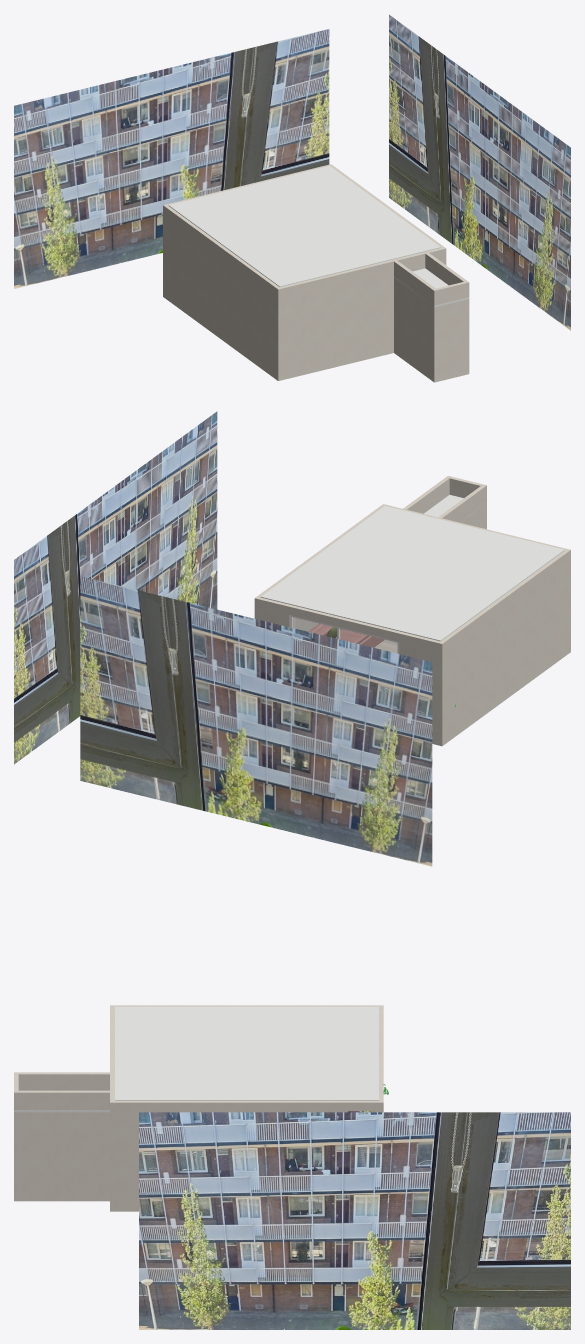
The model's file is room.glb.
3 views of the same model, one above another, from view 1: azimuth 30°, elevation 25°; view 2: azimuth 150°, elevation 25°; view 3: azimuth 270°, elevation 25° (orthographic). The views are drawn at different scales.
Visible parts, largest first — view 1: Backdrop_North, Backdrop_East, Ceiling, Wall_S_a, Wall_W, Hall_Wall_L, Hall_End, Hall_Wall_R, Hall_Ceiling; view 2: Backdrop_North, Backdrop_East, Ceiling, Wall_W, Wall_N_a, Wall_N_above, Hall_Wall_L, Wall_N_b, Hall_Wall_R, Wall_E_a, Glass_Pane_Left, Hall_End; view 3: Backdrop_East, Ceiling, Hall_Wall_R, Wall_E_a, Hall_Wall_L, Hall_End, Wall_S_b, Wall_W.
Part boxes in pixels (box(x1,y1,x2,y2)): Backdrop_North: box(14, 29, 329, 288); Backdrop_East: box(389, 14, 570, 330); Ceiling: box(168, 165, 440, 286); Wall_S_a: box(276, 259, 396, 380); Wall_W: box(163, 204, 281, 379); Hall_Wall_L: box(394, 260, 435, 380); Hall_End: box(432, 281, 469, 382); Hall_Wall_R: box(425, 253, 466, 285); Hall_Ceiling: box(394, 268, 469, 307); Backdrop_North: box(80, 576, 432, 866); Backdrop_East: box(14, 411, 217, 764); Ceiling: box(260, 506, 564, 641); Wall_W: box(439, 549, 570, 745); Wall_N_a: box(399, 632, 442, 746); Wall_N_above: box(289, 605, 400, 641); Hall_Wall_L: box(438, 486, 484, 528); Wall_N_b: box(254, 597, 291, 627); Hall_Wall_R: box(403, 477, 449, 513); Wall_E_a: box(273, 504, 386, 631); Glass_Pane_Left: box(340, 629, 397, 652); Hall_End: box(446, 476, 486, 529); Backdrop_East: box(139, 1112, 570, 1329); Ceiling: box(115, 1006, 378, 1100); Hall_Wall_R: box(18, 1090, 109, 1201); Wall_E_a: box(110, 1100, 345, 1211); Hall_Wall_L: box(18, 1072, 109, 1090); Hall_End: box(14, 1072, 18, 1201); Wall_S_b: box(110, 1090, 114, 1211); Wall_W: box(110, 1005, 383, 1007).
Bounding box in the file's own units: 10.7 × 5 × 11.6.
Materials: 153 (21 with a texture image).
